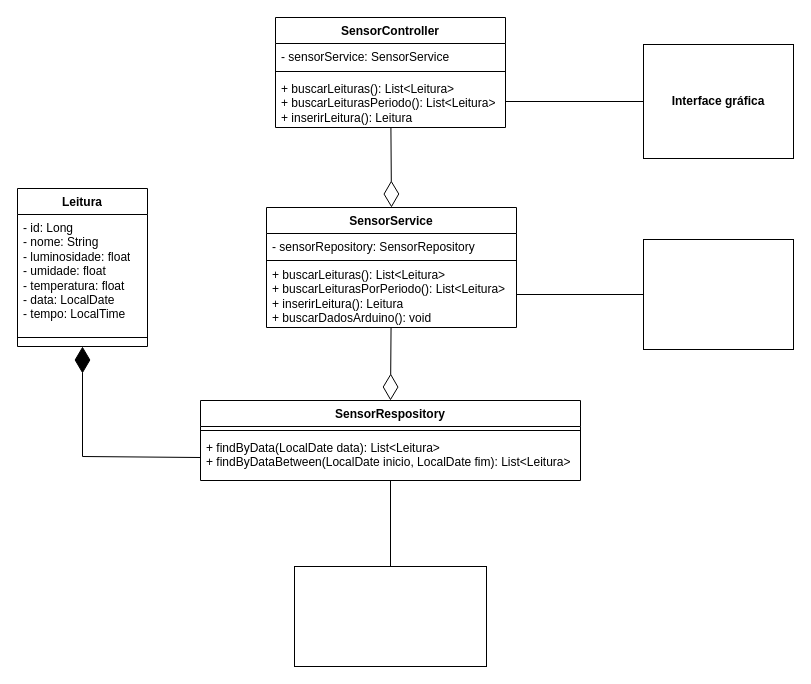
The diagram is 811 pixels wide and 684 high, and some of its shapes have lost their labels. Each missing label, with the centre of its shape:
"Arduino" goes at pixel 718 294.
"BANCO DE DADOS" goes at pixel 390 616.
